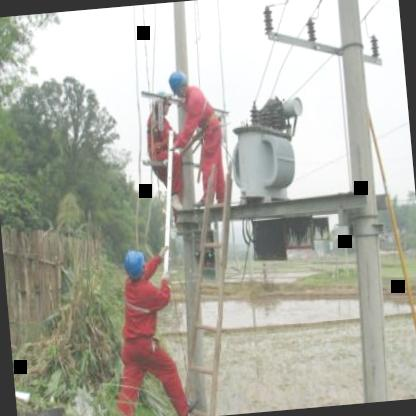helmet: (166, 65, 194, 105), (121, 245, 148, 282)
